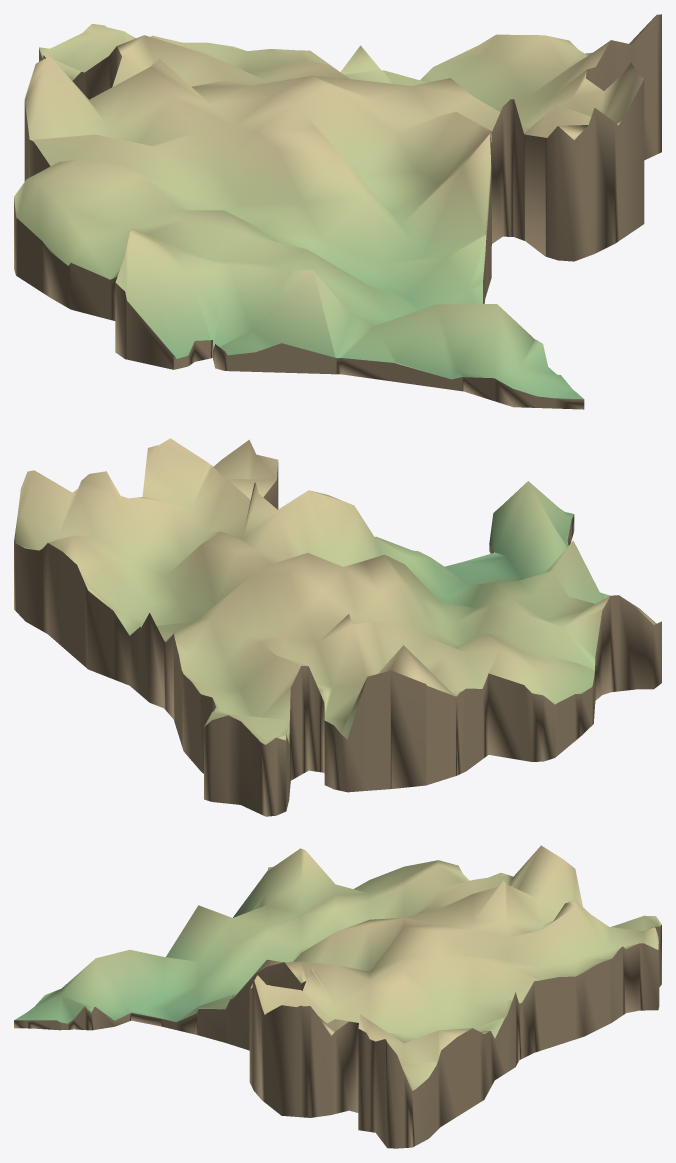
File: MNE.glb
3 views of the same model, one above another, from view 1: azimuth 30°, elevation 25°; view 2: azimuth 150°, elevation 25°; view 3: azimuth 270°, elevation 25° (orthographic). The views are drawn at different scales.
Visible parts, largest first — view 1: MNE; view 2: MNE; view 3: MNE.
Part boxes in pixels (x1,y1,x2,y2): MNE: (14,14,661,409); MNE: (14,438,661,816); MNE: (14,845,661,1148).
Bounding box in the file's own units: 1.48 × 0.338 × 1.77.
